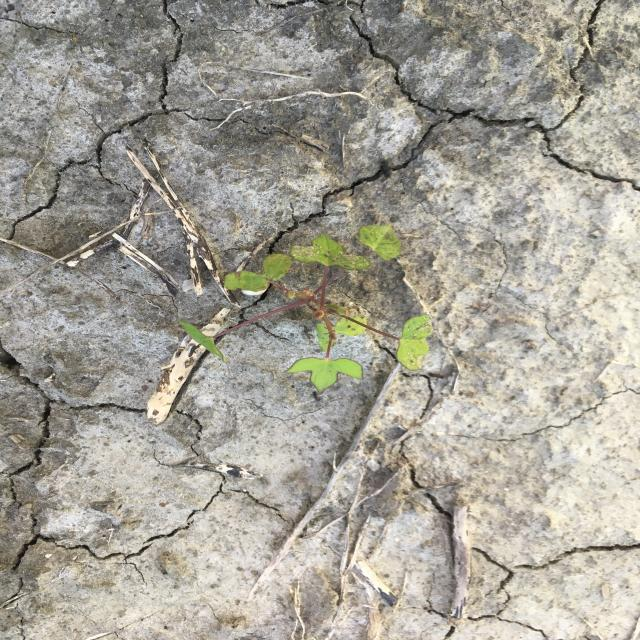MorningGlory: (175, 223, 438, 395)
